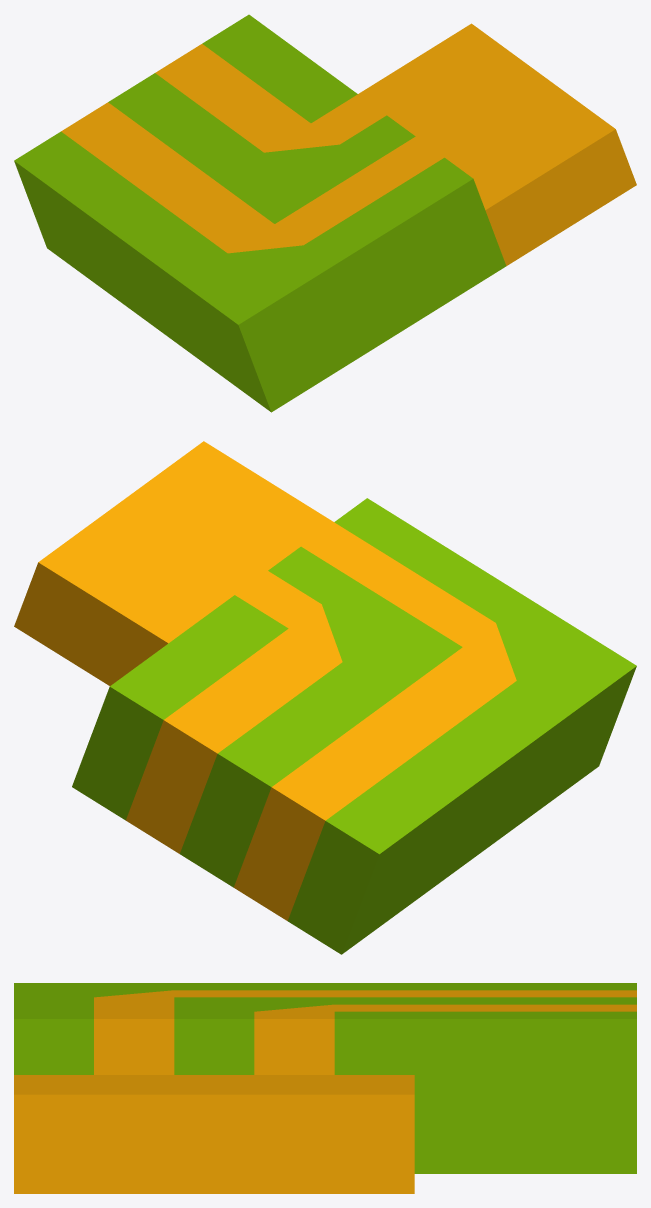
Rendered from stack-green-electronic-circuit.glb.
The picture shows the model from 3 angles, top to bottom: view 1: azimuth 30°, elevation 25°; view 2: azimuth 150°, elevation 25°; view 3: azimuth 270°, elevation 25°; orthographic projection. The views are drawn at different scales.
Parts seen in each view (by area): view 1: Cube.030; view 2: Cube.030; view 3: Cube.030.
Part boxes in pixels (x1=…): Cube.030: x1=14, y1=14, x2=636, y2=412; Cube.030: x1=14, y1=441, x2=636, y2=954; Cube.030: x1=14, y1=983, x2=636, y2=1193.
Bounding box in the file's own units: 2.46 × 1.18 × 2.4.
1 material, 1 textured.
